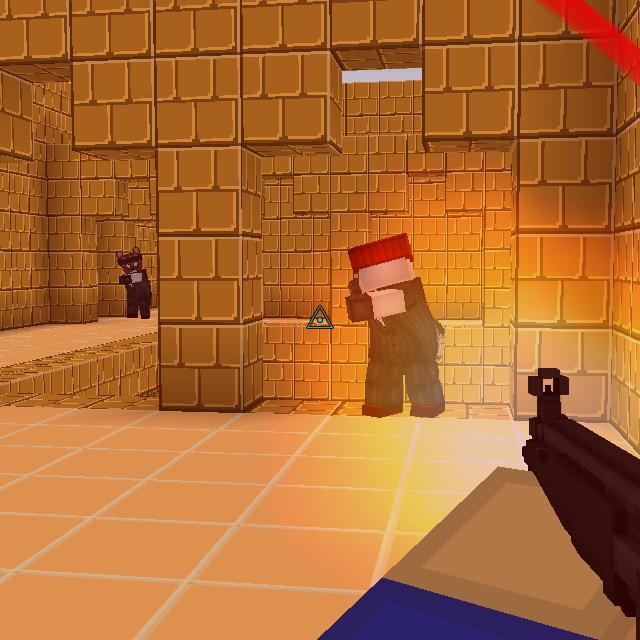enemy: (343, 230, 450, 420), (115, 245, 154, 320)
